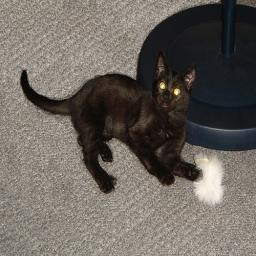catnose: (162, 91, 170, 101)
